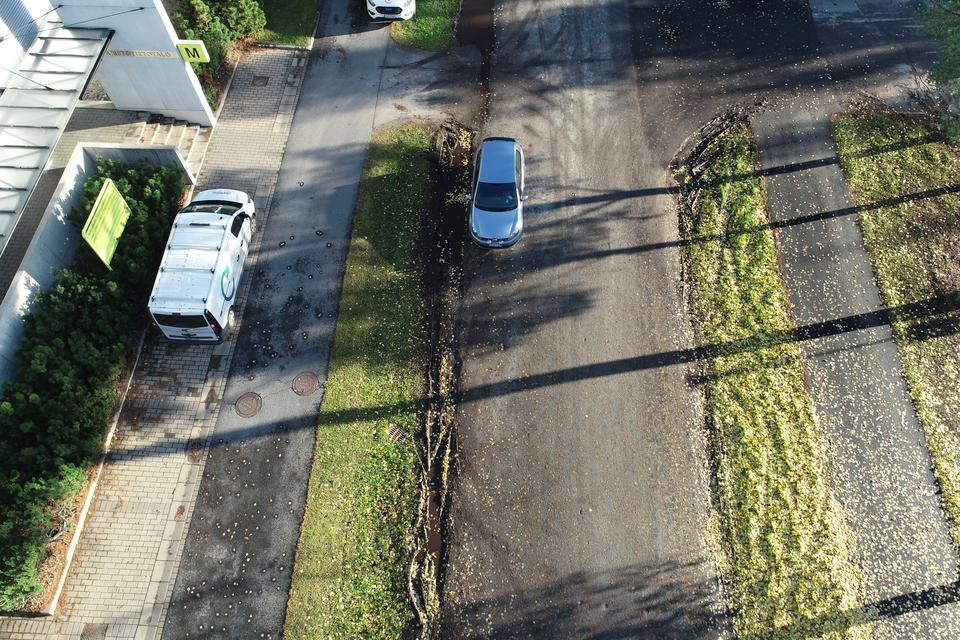intersection: (399, 0, 960, 244)
